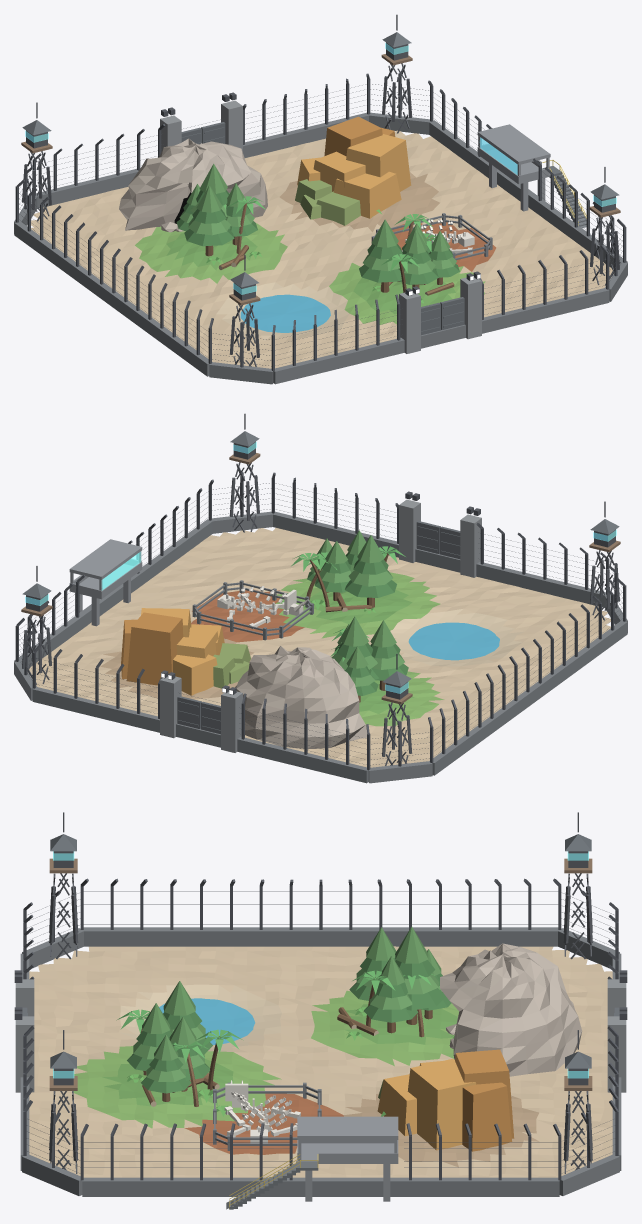
File: trex_enclosure_80x80.glb
The picture shows the model from 3 angles, top to bottom: view 1: azimuth 30°, elevation 25°; view 2: azimuth 150°, elevation 25°; view 3: azimuth 270°, elevation 25°; orthographic projection. The views are drawn at different scales.
Visible parts, largest first — view 1: TRex_Terrain, Fence_Foundation_Curb, Fence_Posts, Stepped_Rock_Outcrop, Cave_Grotto, Observation_Bunker, Pond_Water_Surface, Gate_FrontLeft_Pylons, Fence_Cables, Pine_Back_1, Pine_Front_1, Watchtower_Right (+13 smaller); view 2: TRex_Terrain, Fence_Foundation_Curb, Fence_Posts, Cave_Grotto, Stepped_Rock_Outcrop, Observation_Bunker, Pond_Water_Surface, Gate_FrontLeft_Pylons, Gate_BackRight_Pylons, Fence_Cables, Pine_Front_1, Watchtower_Bottom (+11 smaller); view 3: TRex_Terrain, Fence_Foundation_Curb, Cave_Grotto, Stepped_Rock_Outcrop, Fence_Posts, Observation_Bunker, Fence_Cables, Pine_Back_2, Watchtower_Left, Watchtower_Top, Dino_Carcass_Skeleton, Watchtower_Bottom (+13 smaller).
Part boxes in pixels (x1,y1,x2,y2): TRex_Terrain: (31,130,612,368); Fence_Foundation_Curb: (14,112,627,384); Fence_Posts: (15,73,626,370); Stepped_Rock_Outcrop: (295,116,411,225); Cave_Grotto: (119,138,267,230); Observation_Bunker: (477,124,586,225); Pond_Water_Surface: (240,294,330,332); Gate_FrontLeft_Pylons: (399,271,481,353); Fence_Cables: (18,84,623,366); Pine_Back_1: (184,185,234,256); Pine_Front_1: (359,219,402,292); Watchtower_Right: (381,14,412,133); TRex_Terrain: (29,528,610,767); Fence_Foundation_Curb: (14,511,627,783); Fence_Posts: (15,472,626,769); Cave_Grotto: (235,646,367,749); Stepped_Rock_Outcrop: (121,608,250,695); Observation_Bunker: (69,539,142,626); Pond_Water_Surface: (408,622,499,660); Gate_FrontLeft_Pylons: (399,491,481,577); Gate_BackRight_Pylons: (160,670,242,752); Fence_Cables: (18,483,623,765); Pine_Front_1: (345,535,396,607); Watchtower_Bottom: (229,413,260,532); TRex_Terrain: (29,946,612,1177); Fence_Foundation_Curb: (20,927,621,1196); Cave_Grotto: (440,943,581,1076); Stepped_Rock_Outcrop: (377,1049,514,1151); Fence_Posts: (23,878,618,1180); Observation_Bunker: (229,1116,398,1208); Fence_Cables: (27,891,614,1173); Pine_Back_2: (395,926,445,1024); Watchtower_Left: (49,812,78,959); Watchtower_Top: (563,812,592,959); Dino_Carcass_Skeleton: (224,1080,300,1143); Watchtower_Bottom: (49,1030,78,1173).
Bounding box in the file's own units: 79.69 × 21.99 × 77.58.
